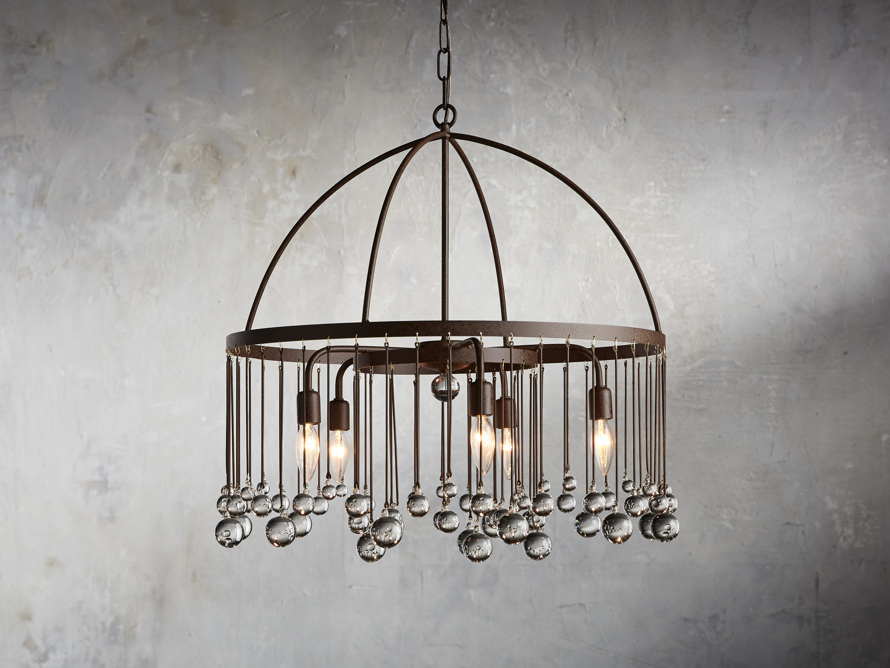chandelier: (201, 4, 718, 579)
